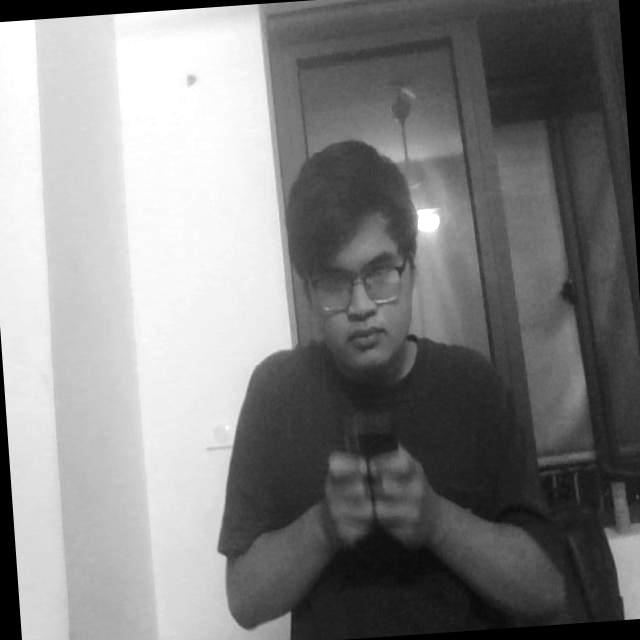phone: (328, 408, 413, 512)
